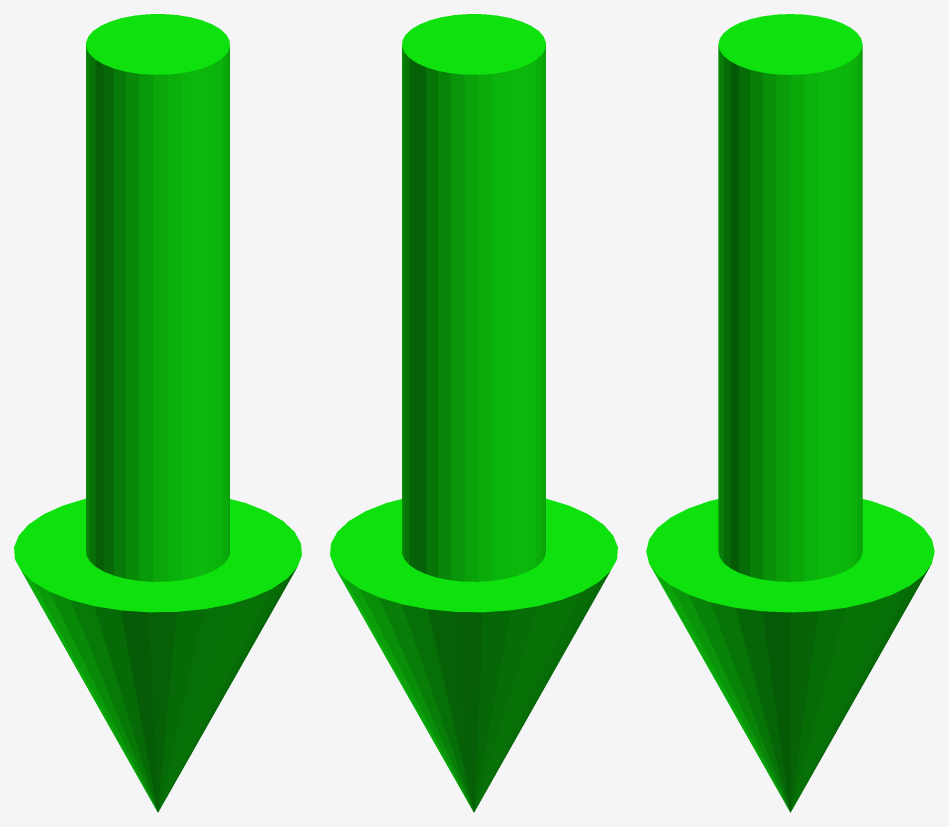
File: arrow.obj
3 views of the same model, side by side, from view 1: azimuth 30°, elevation 25°; view 2: azimuth 150°, elevation 25°; view 3: azimuth 270°, elevation 25° (orthographic).
Visible parts, largest first — view 1: line.003; view 2: line.003; view 3: line.003.
Boxes of the visible parts, box(x1,y1,x2,y2) form: line.003: box(14, 14, 301, 812); line.003: box(330, 14, 617, 812); line.003: box(646, 14, 934, 812).
Bounding box in the file's own units: 0.3906 × 1.15 × 0.3906.
